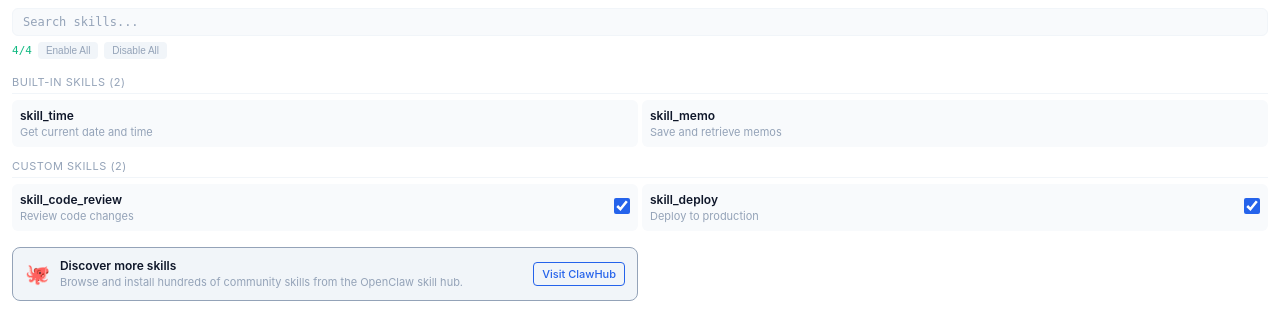
Test: SkillsTab › filters skills by search query
Expected: the text "skill_time" is shown, [20,108,74,123]
In the field with placeholder "Search skills...": (640, 22) [12,8,1268,36], type "deploy"
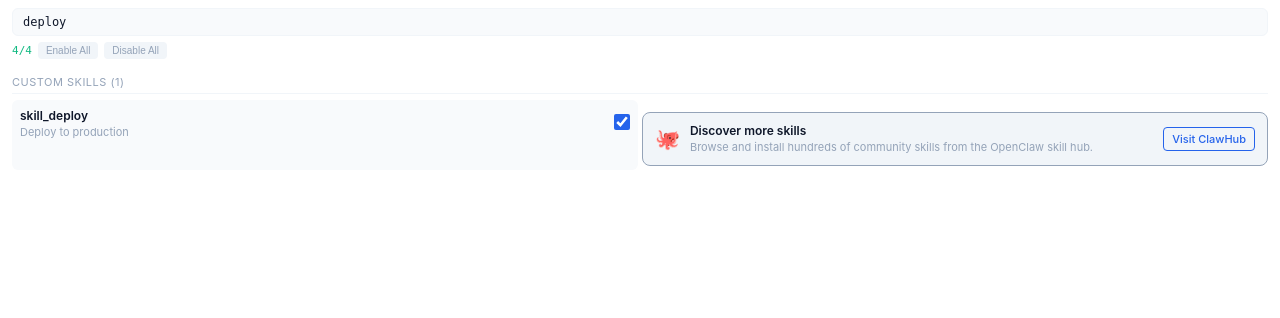
Expected: the text "skill_deploy" is shown, [20,108,88,123]
Result: the text "skill_time" is gone
